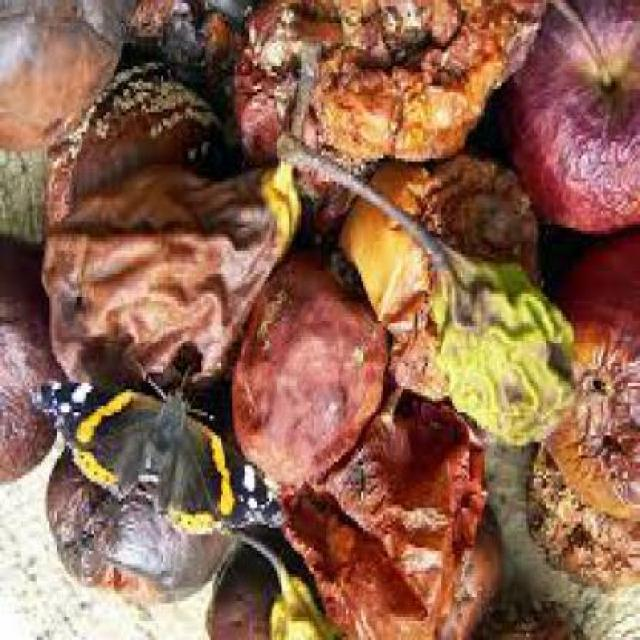BIODEGRADABLE: (277, 136, 571, 452), (43, 162, 300, 386), (282, 396, 484, 630), (302, 3, 546, 172), (229, 251, 383, 498), (230, 4, 381, 238), (38, 59, 222, 238), (505, 4, 637, 244), (42, 452, 235, 603), (544, 238, 638, 524), (0, 3, 126, 159), (0, 240, 68, 486), (527, 448, 638, 590), (124, 3, 250, 99), (226, 531, 337, 638), (205, 548, 300, 638), (446, 511, 503, 638), (465, 594, 586, 638)
